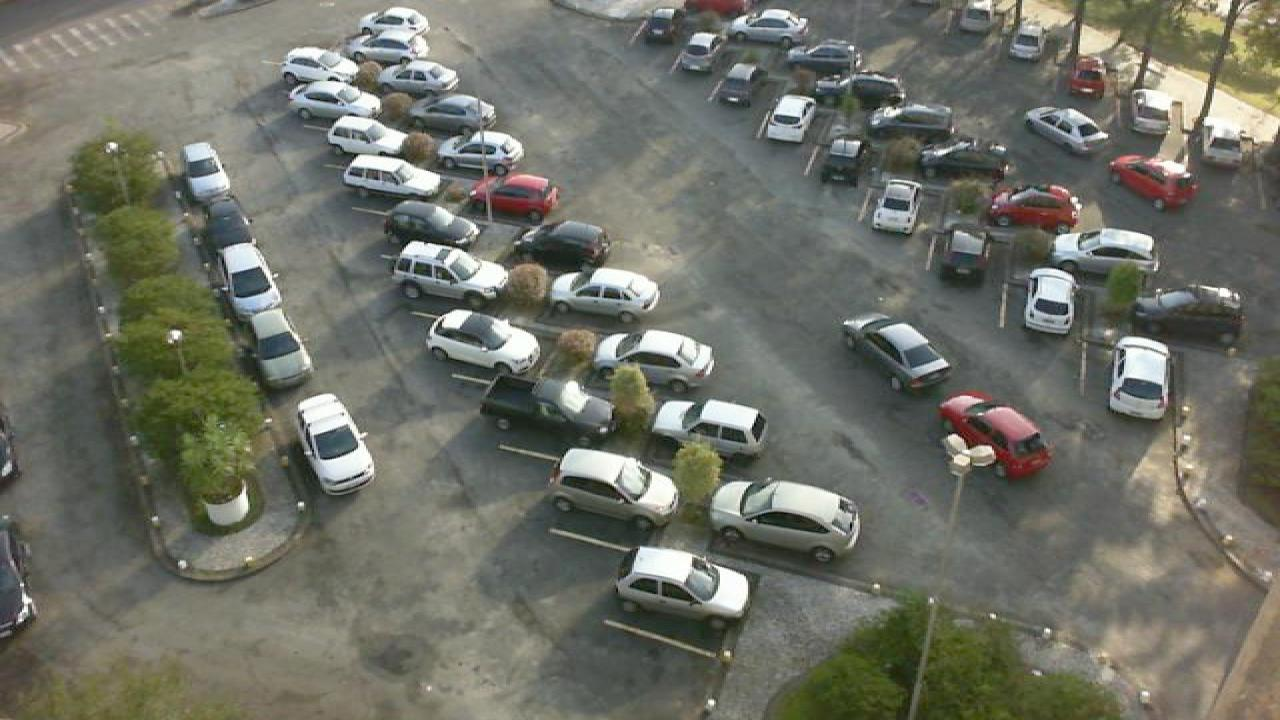Car: (706, 478, 864, 563), (548, 446, 682, 534), (612, 544, 754, 626), (938, 391, 1056, 482), (478, 370, 618, 440), (842, 315, 954, 394), (294, 393, 380, 495), (424, 308, 544, 377), (592, 330, 718, 391), (650, 398, 768, 460), (388, 242, 510, 300), (1130, 284, 1246, 343), (546, 266, 662, 325), (240, 306, 316, 390), (1108, 337, 1174, 422), (1108, 153, 1200, 211), (382, 199, 484, 249), (1052, 228, 1162, 274), (982, 184, 1082, 234), (516, 219, 616, 268), (220, 243, 284, 318), (340, 153, 444, 199), (470, 172, 562, 223), (284, 81, 384, 124), (408, 92, 500, 138), (1024, 106, 1110, 154), (324, 115, 408, 162), (1022, 267, 1080, 335), (440, 130, 526, 174), (940, 207, 992, 279), (280, 46, 366, 88), (918, 142, 1010, 181), (344, 29, 432, 69), (200, 194, 252, 258), (180, 142, 236, 201), (870, 179, 924, 237), (828, 70, 908, 109), (868, 102, 954, 138), (380, 61, 458, 98), (732, 8, 810, 45), (762, 95, 818, 145), (790, 38, 866, 74), (820, 136, 866, 188), (710, 62, 762, 108), (360, 6, 430, 38), (1202, 119, 1246, 168), (1130, 88, 1174, 137), (678, 30, 724, 74), (1066, 53, 1108, 98), (634, 5, 680, 46), (1006, 22, 1046, 62), (956, 0, 998, 35)
